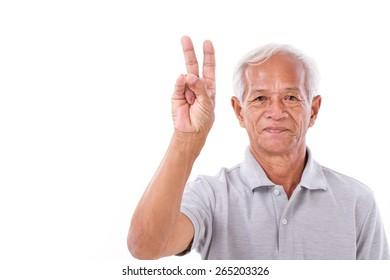peace_sign: (166, 36, 225, 137)
